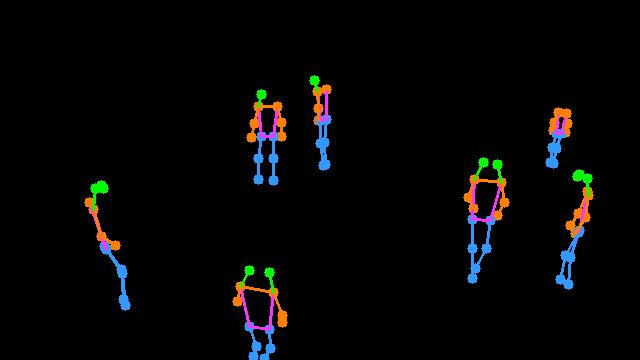normal: (230, 247, 301, 359), (246, 74, 285, 191), (305, 66, 338, 178)
